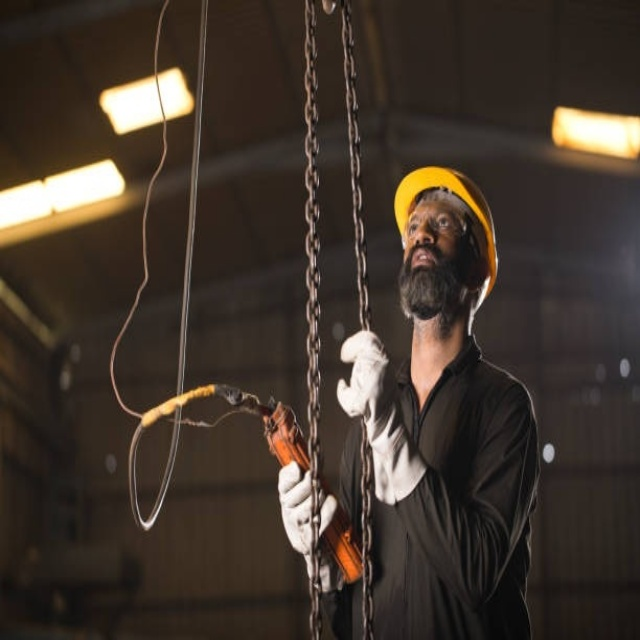Guantes: (338, 326, 430, 502), (274, 452, 338, 557)
Sin_gafas: (404, 201, 457, 238)
Sin_mascara: (404, 242, 444, 289)
